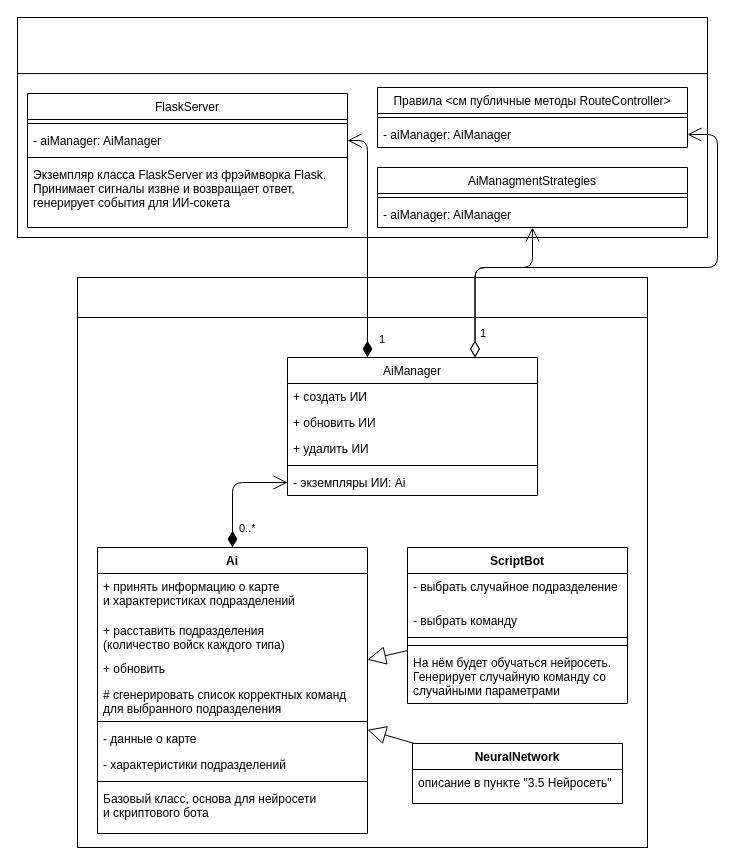
This 752x865 diagram has some shape labels left out. Each missing label, with the centre of its shape:
Компонент "Менеджер ИИ": the point at 362,297
Компонент "Сервер": the point at 362,45
